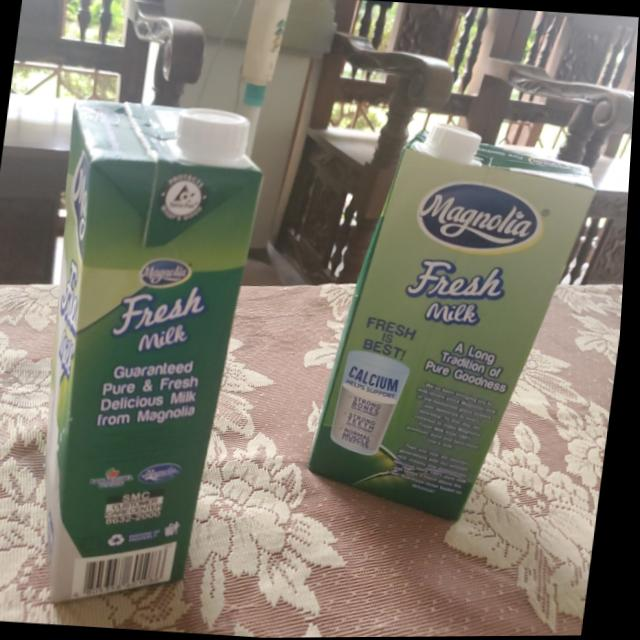milk: (19, 89, 269, 593), (306, 121, 603, 528)
